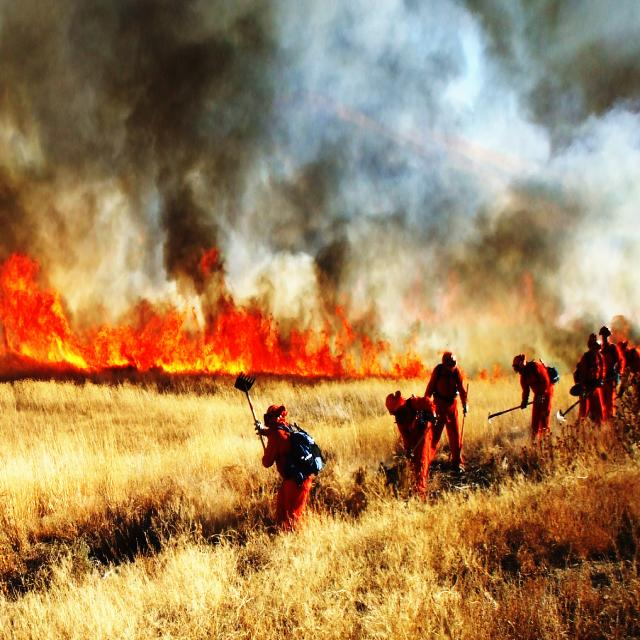api: (90, 325, 338, 379), (6, 264, 82, 375), (345, 352, 428, 381)
asap: (345, 13, 628, 338), (6, 1, 336, 264), (87, 246, 340, 320)
